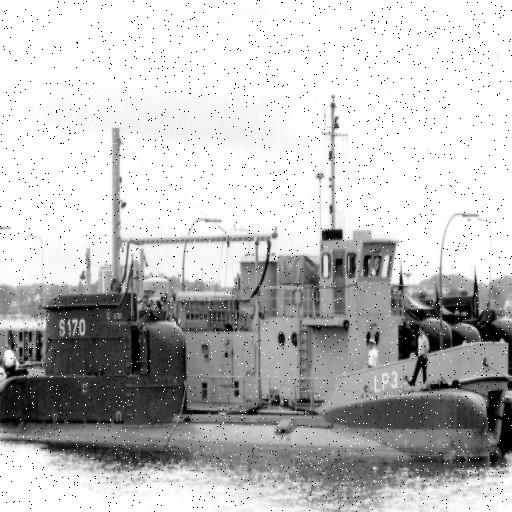submarine: (1, 290, 416, 465)
